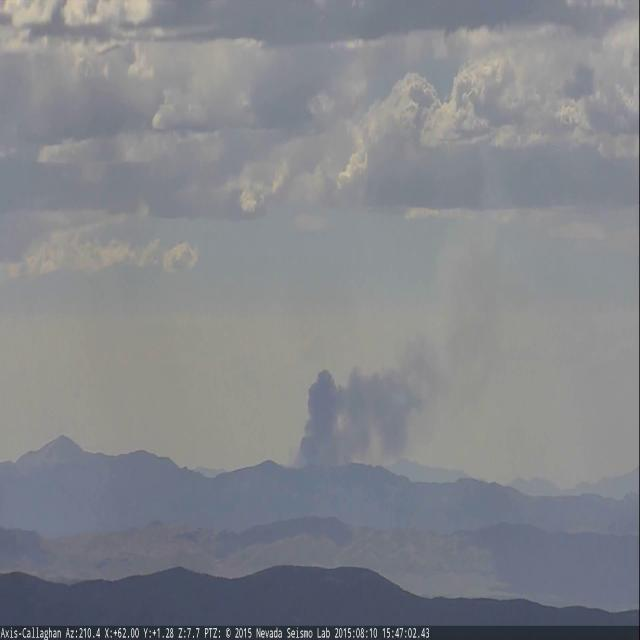smoke: (293, 315, 496, 471)
